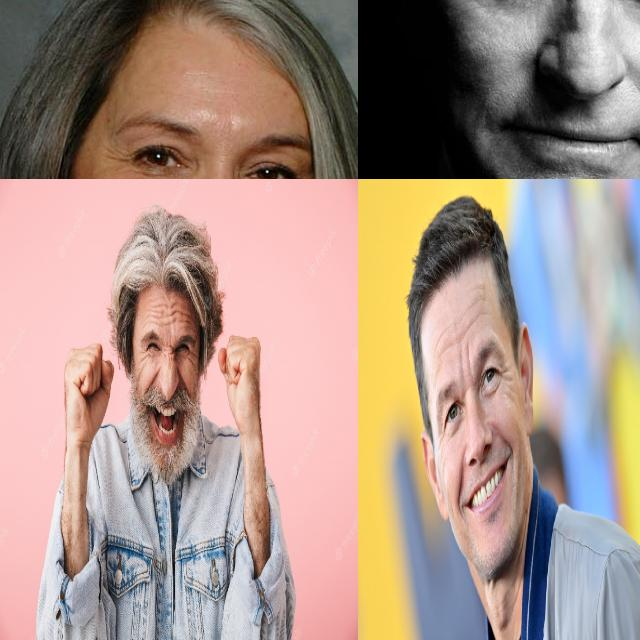crows_feet: (103, 138, 131, 179), (499, 363, 510, 395), (437, 430, 446, 454), (188, 347, 198, 366), (139, 344, 147, 365)
forehead: (464, 300, 486, 328), (166, 299, 182, 330), (438, 326, 456, 352), (150, 302, 163, 326), (184, 308, 192, 334)
frown_line: (461, 346, 472, 380), (166, 340, 175, 366)
gummy_smile: (492, 423, 512, 448), (456, 470, 464, 516), (176, 368, 190, 394), (148, 366, 159, 392)
